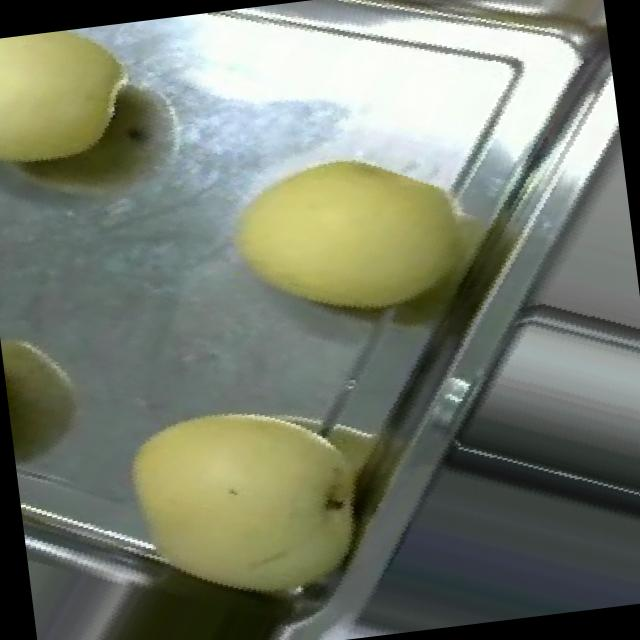Fruit: (89, 363, 406, 640), (196, 106, 517, 370), (0, 19, 165, 200)
